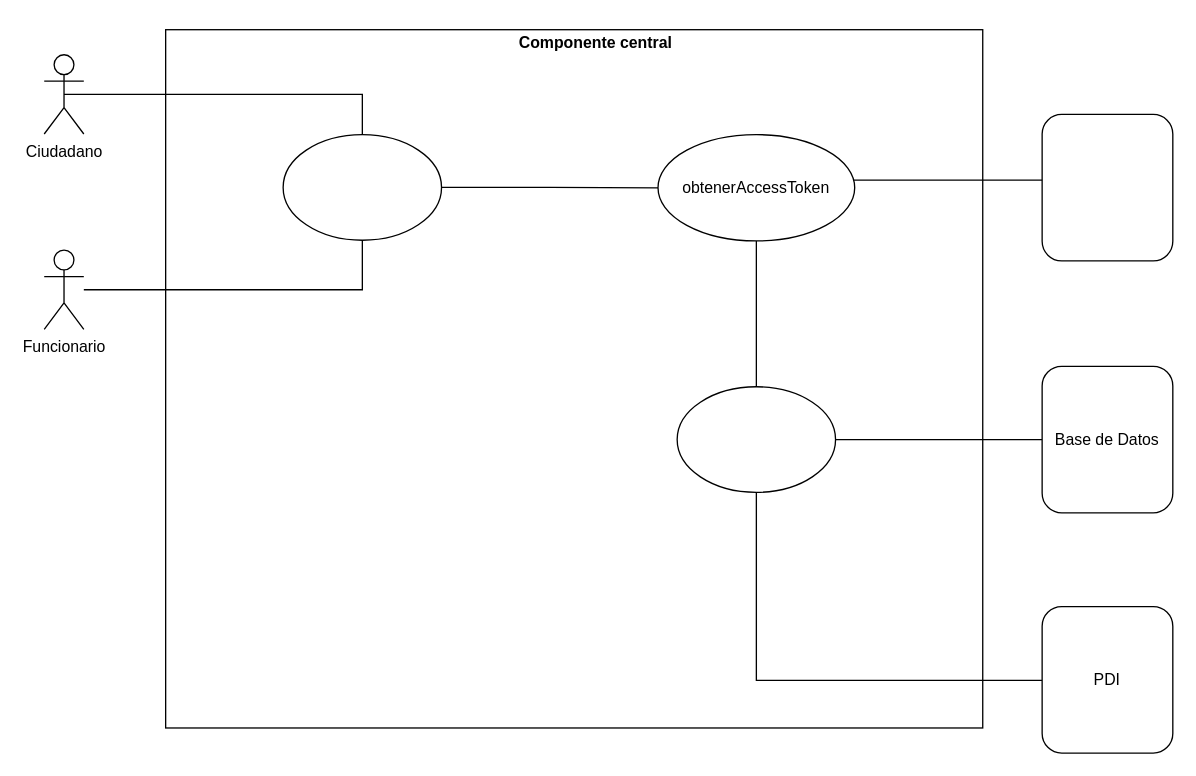
Some shapes in this 1196 by 776 pixel diagram are drawn without their labels. The centre of each missing label's shape, as x and y in pixels:
"ContrastarDatos" goes at point 756,438.
"Gub.uy" goes at point 1107,187.
"Login" goes at point 362,186.
